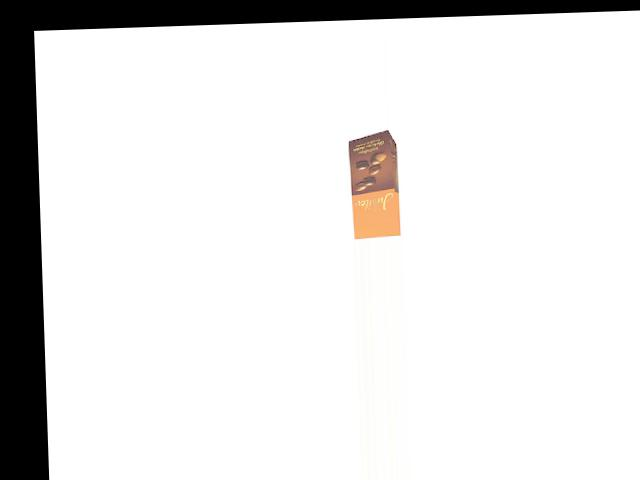chocolate: (342, 130, 403, 238)
